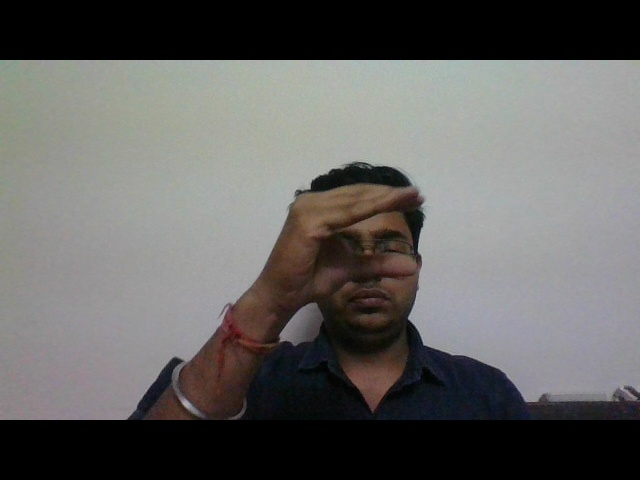no: (246, 157, 449, 327)
